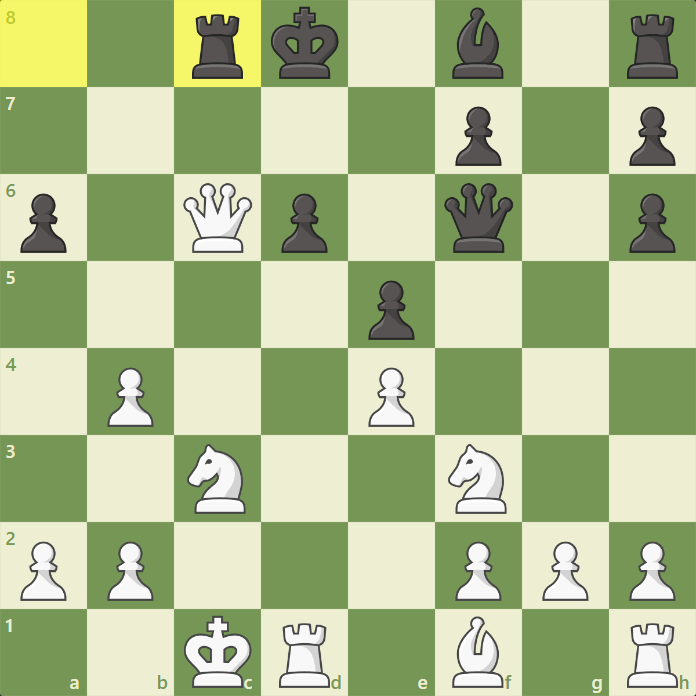B: (450, 614, 507, 691)
K: (182, 613, 254, 690)
N: (444, 442, 509, 517), (185, 442, 247, 516)
P: (17, 540, 68, 604), (104, 539, 155, 603), (105, 366, 156, 430), (365, 367, 416, 431), (453, 540, 504, 604), (540, 539, 591, 603), (626, 539, 677, 603)
Q: (182, 181, 254, 255)
R: (276, 621, 333, 691), (625, 621, 680, 690)
b: (450, 5, 506, 82)
k: (267, 4, 341, 81)
p: (367, 278, 418, 343), (279, 192, 330, 257), (17, 191, 68, 256), (627, 192, 678, 257), (627, 104, 678, 169), (453, 104, 504, 169)
q: (442, 181, 517, 255)
r: (190, 13, 247, 82), (625, 13, 680, 81)
